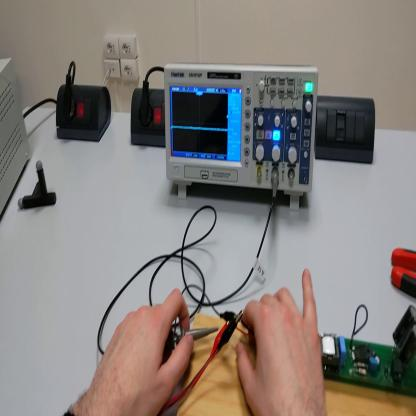hand: (88, 284, 193, 415), (237, 267, 327, 415)
high voltage board: (237, 304, 416, 391)
oscilloscope: (163, 61, 321, 212)
oscilloscope probe tip: (167, 325, 220, 348)
pliers: (391, 243, 416, 296)
power supply: (2, 51, 34, 221)
socket: (56, 84, 112, 143), (130, 85, 166, 153)
working area: (162, 304, 416, 415)
